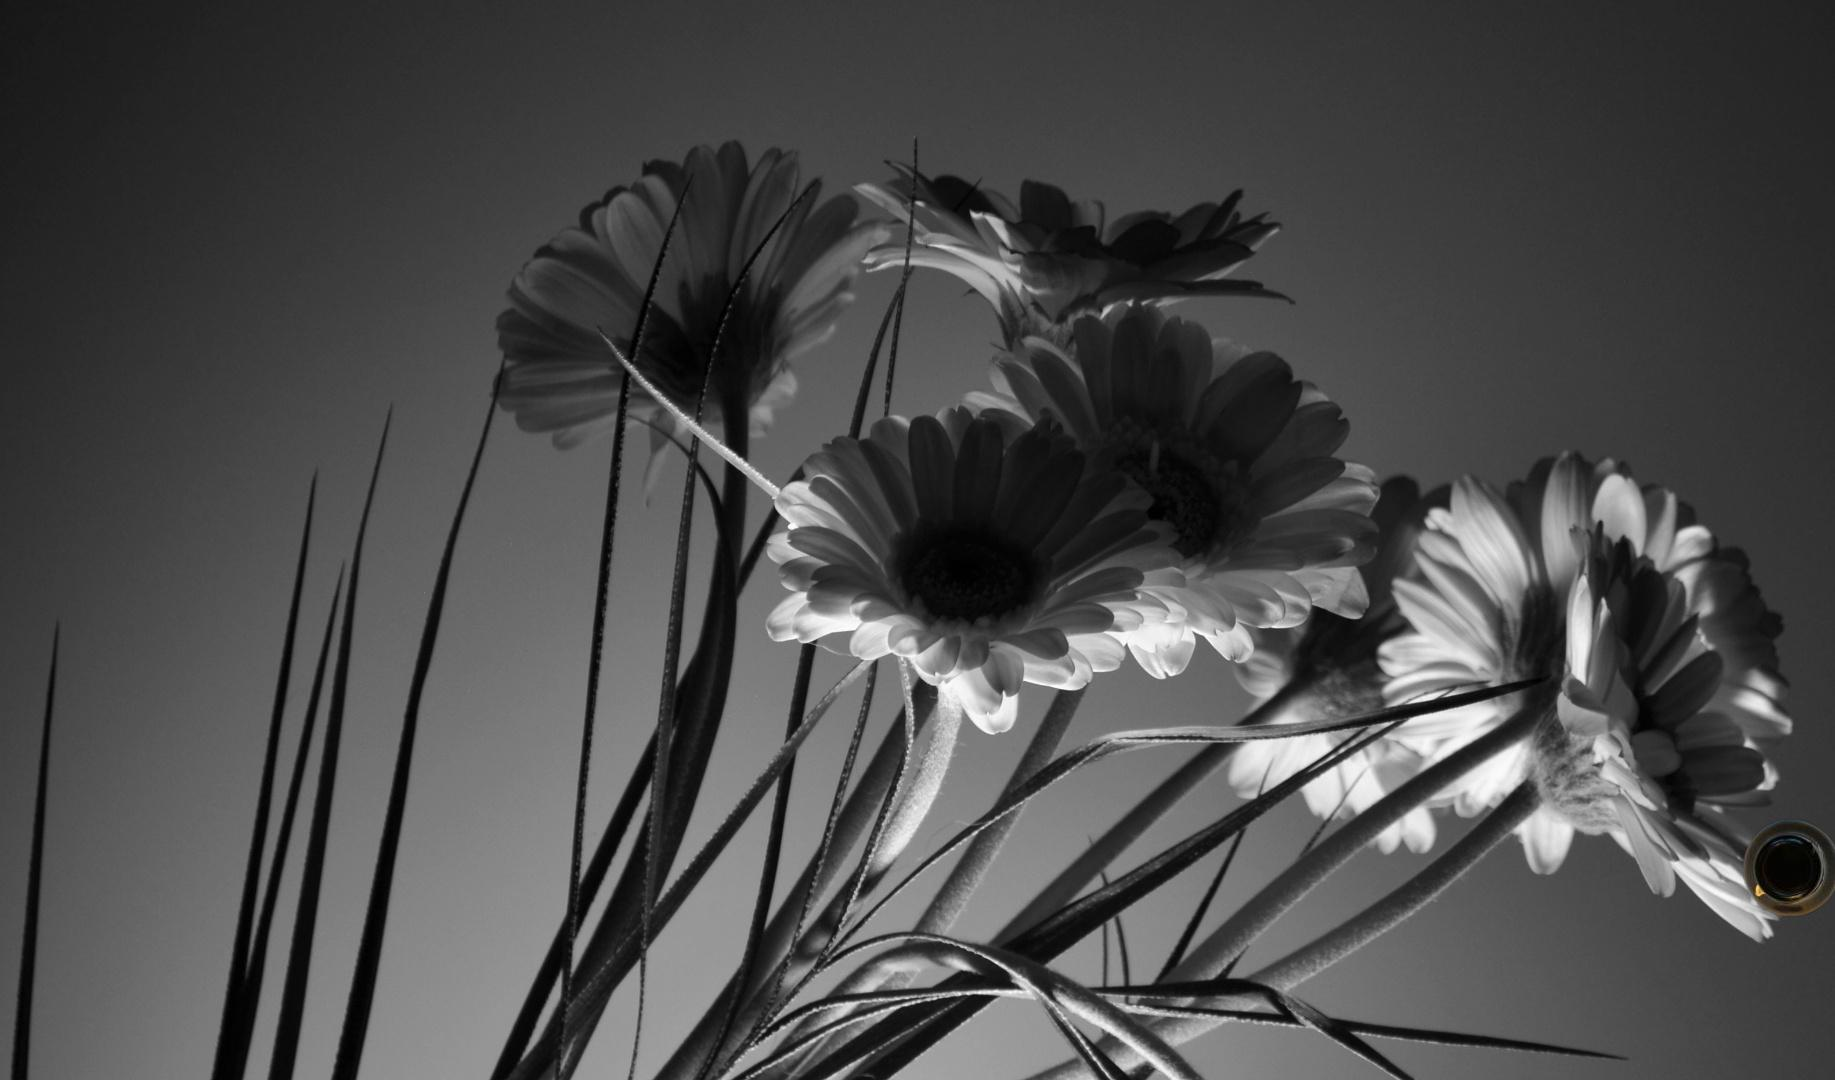glass: (1739, 816, 1835, 921)
